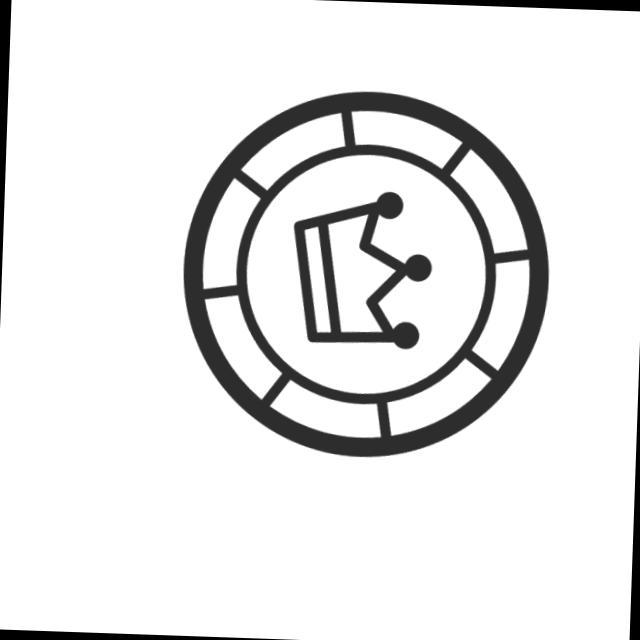coin: (169, 79, 561, 474)
